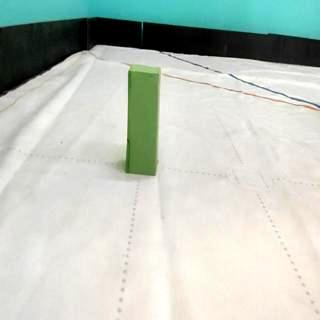greenbox: (125, 62, 164, 176)
